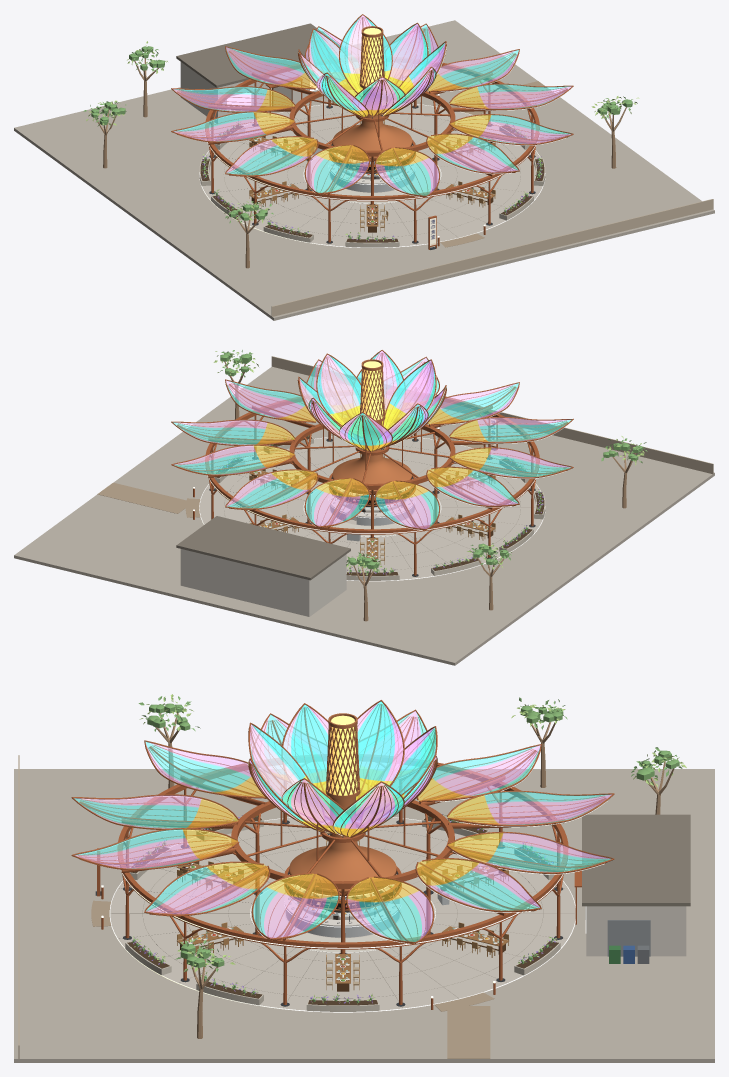
Rendered from q09b-petal-canteen-v2.glb.
3 views of the same model, one above another, from view 1: azimuth 30°, elevation 25°; view 2: azimuth 150°, elevation 25°; view 3: azimuth 270°, elevation 25° (orthographic). The views are drawn at different scales.
Parts seen in each view (by area): view 1: FLOOR_PLAZA, PETALS_OUTER, COLUMNS_RING_RIBS, PETALS_INNER, BACK_OF_HOUSE, KITCHEN_HOOD, KITCHEN_COUNTER, TABLE_5, MENU_LIGHTBOX_FRAMES, TABLE_6, TABLE_1, TABLE_3 (+1 smaller); view 2: FLOOR_PLAZA, PETALS_OUTER, BACK_OF_HOUSE, COLUMNS_RING_RIBS, PETALS_INNER, KITCHEN_COUNTER, KITCHEN_HOOD, TABLE_5, TABLE_4, TABLE_1; view 3: FLOOR_PLAZA, PETALS_OUTER, COLUMNS_RING_RIBS, BACK_OF_HOUSE, PETALS_INNER, KITCHEN_COUNTER, KITCHEN_HOOD, TABLE_5, TABLE_1, TABLE_3, TABLE_2, MENU_LIGHTBOX_FRAMES (+2 smaller).
Part boxes in pixels (left/top/right/bottom): FLOOR_PLAZA: left=14, top=20, right=714, bottom=320; PETALS_OUTER: left=171, top=23, right=573, bottom=197; COLUMNS_RING_RIBS: left=205, top=62, right=539, bottom=243; PETALS_INNER: left=298, top=14, right=446, bottom=117; BACK_OF_HOUSE: left=176, top=23, right=347, bottom=124; KITCHEN_HOOD: left=332, top=26, right=412, bottom=162; KITCHEN_COUNTER: left=303, top=141, right=441, bottom=203; TABLE_5: left=360, top=204, right=388, bottom=232; MENU_LIGHTBOX_FRAMES: left=328, top=139, right=436, bottom=249; TABLE_6: left=446, top=181, right=495, bottom=207; TABLE_1: left=446, top=135, right=495, bottom=157; TABLE_3: left=249, top=136, right=298, bottom=156; FLOOR_PLAZA: left=14, top=350, right=714, bottom=665; PETALS_OUTER: left=171, top=356, right=573, bottom=530; BACK_OF_HOUSE: left=176, top=516, right=350, bottom=616; COLUMNS_RING_RIBS: left=205, top=395, right=539, bottom=576; PETALS_INNER: left=297, top=350, right=446, bottom=452; KITCHEN_COUNTER: left=303, top=485, right=441, bottom=541; KITCHEN_HOOD: left=332, top=359, right=412, bottom=495; TABLE_5: left=446, top=469, right=495, bottom=491; TABLE_4: left=446, top=514, right=495, bottom=540; TABLE_1: left=249, top=469, right=298, bottom=489; FLOOR_PLAZA: left=14, top=694, right=714, bottom=1062; PETALS_OUTER: left=71, top=709, right=614, bottom=944; COLUMNS_RING_RIBS: left=117, top=761, right=568, bottom=1006; BACK_OF_HOUSE: left=574, top=814, right=690, bottom=963; PETALS_INNER: left=248, top=700, right=438, bottom=837; KITCHEN_COUNTER: left=250, top=883, right=449, bottom=952; KITCHEN_HOOD: left=289, top=713, right=396, bottom=896; TABLE_5: left=176, top=861, right=243, bottom=890; TABLE_1: left=326, top=954, right=359, bottom=991; TABLE_3: left=442, top=861, right=508, bottom=891; TABLE_2: left=442, top=922, right=508, bottom=957; MENU_LIGHTBOX_FRAMES: left=95, top=848, right=401, bottom=910.
Bounding box in the file's own units: 48.06 × 15.3 × 49.
Materials: 66 (4 with a texture image).
